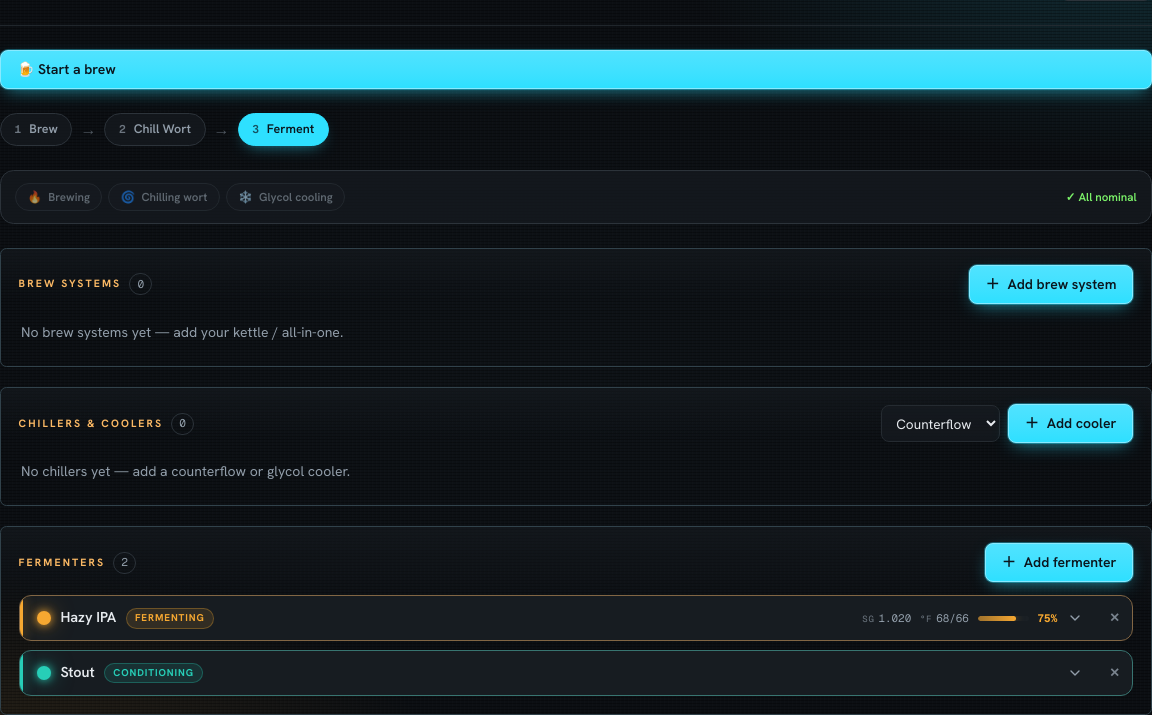
Test case: FermenterRow — vessel rename › the Name field shows the vessel name (not the batch/recipe summary label)
This screenshot has width=1152, height=715.
(page scrolled)
Step 1. Click the button "Hazy IPA Fermenting SG 1.020 °F 68/66 75%" → point(88, 617), box [20,596,1096,640]
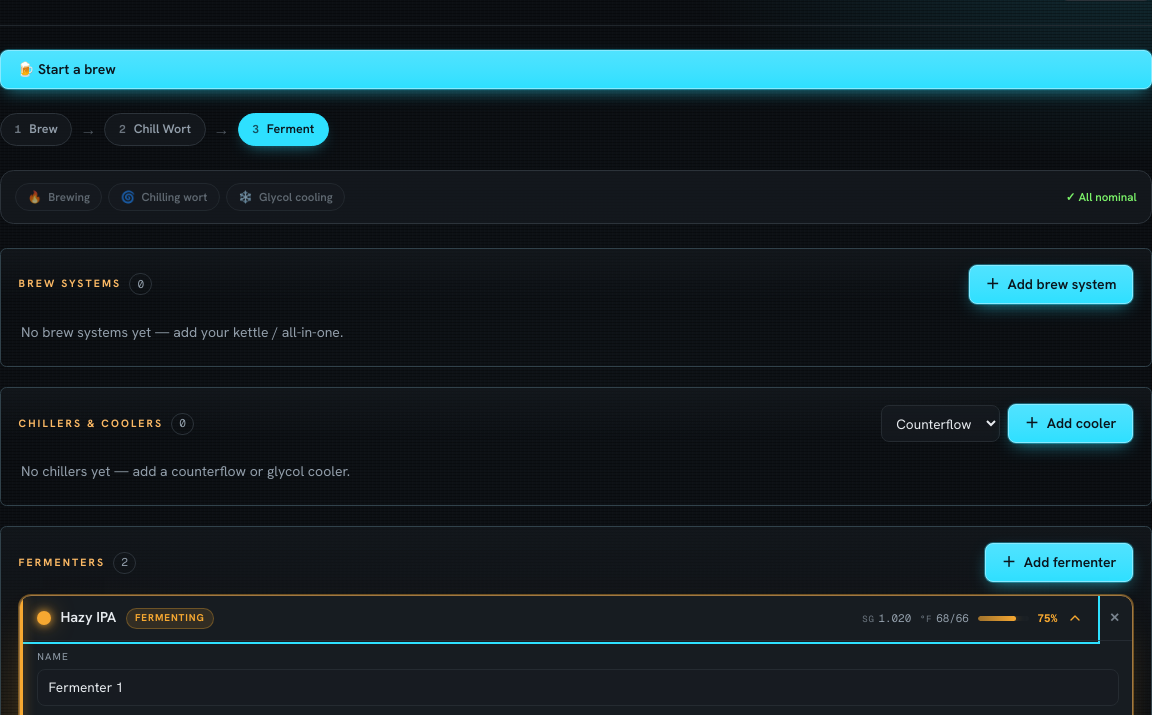
Expected: the field named "Fermenter name" holds "Fermenter 1", [37,669,1119,706]
